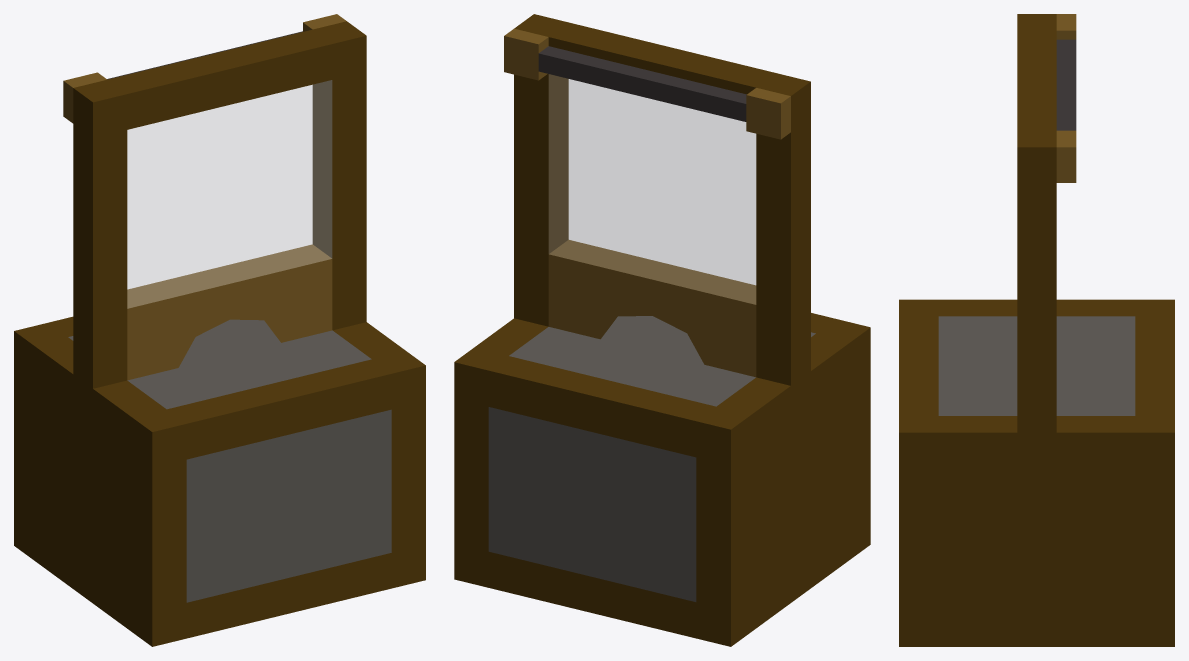
The model's file is bank-booth.gltf.
3 renders of one model, left to right at view 1: azimuth 30°, elevation 25°; view 2: azimuth 150°, elevation 25°; view 3: azimuth 270°, elevation 25°, orthographic.
Size of the model in its own units: 128 by 224 by 112.
2 materials, 2 textured.
